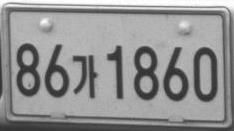0: (192, 46, 218, 102)
1: (103, 44, 130, 99)
6: (162, 46, 189, 102), (44, 44, 69, 98)
8: (133, 45, 159, 101), (15, 42, 40, 97)
가: (72, 54, 98, 99)
